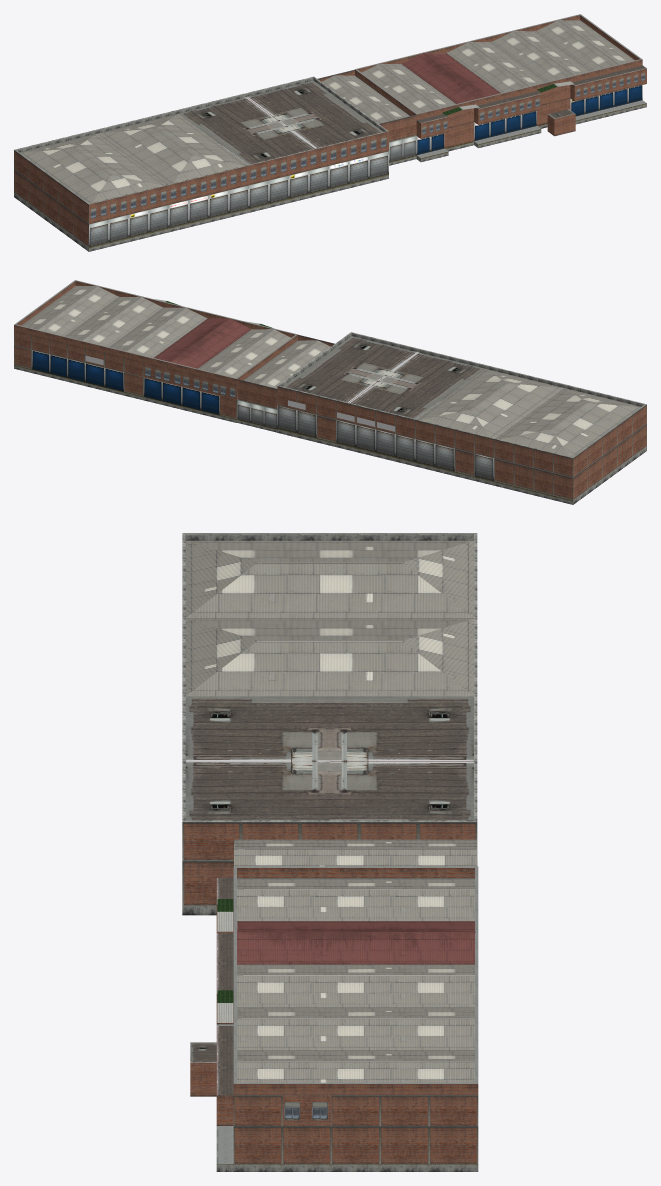
The model's file is carga_skcl.gltf.
3 views of the same model, one above another, from view 1: azimuth 30°, elevation 25°; view 2: azimuth 150°, elevation 25°; view 3: azimuth 270°, elevation 25° (orthographic). The views are drawn at different scales.
Parts seen in each view (by area): view 1: node1; view 2: node1; view 3: node1.
Boxes of the visible parts, box(x1,y1,x2,y2) form: node1: box(14, 14, 646, 251); node1: box(14, 280, 646, 504); node1: box(182, 533, 478, 1171).
Bounding box in the file's own units: 153 × 13.6 × 35.16.
